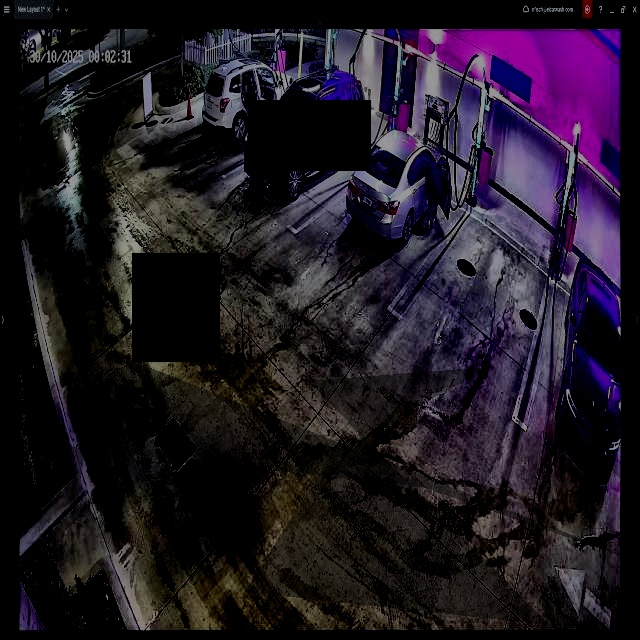Car: (243, 70, 368, 197), (345, 131, 451, 242), (202, 59, 289, 141)
